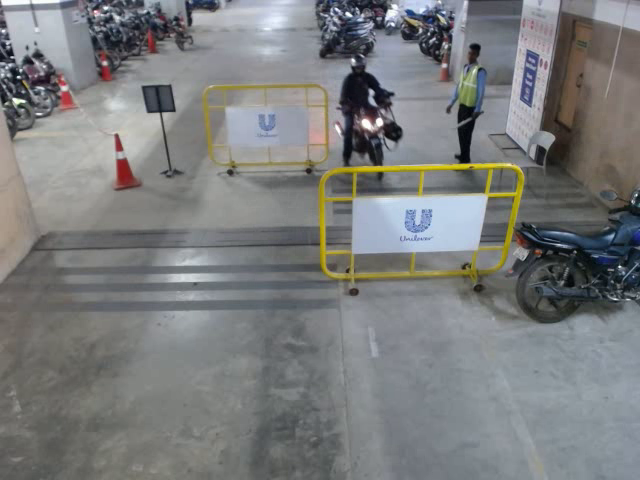with_helmet: (349, 55, 367, 81)
